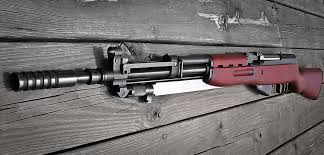gun: (8, 41, 322, 109)
